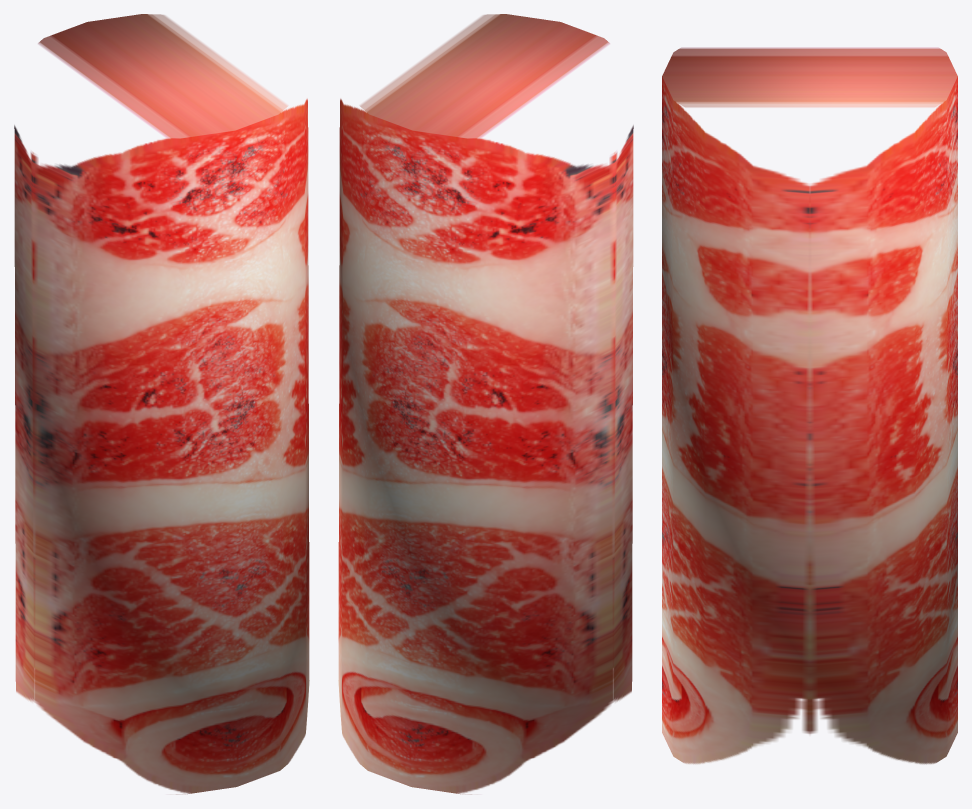
The model's file is beef-roll.glb.
3 renders of one model, left to right at view 1: azimuth 30°, elevation 25°; view 2: azimuth 150°, elevation 25°; view 3: azimuth 270°, elevation 25°, orthographic.
Parts seen in each view (by area): view 1: beef-roll; view 2: beef-roll; view 3: beef-roll.
Boxes of the visible parts, x1,y1,x2,y2 form: beef-roll: [14, 14, 309, 794]; beef-roll: [338, 14, 633, 794]; beef-roll: [662, 47, 957, 764].
Size of the model in its own units: 0.3903 by 0.9504 by 0.3879.
Materials: 1 (1 with a texture image).
